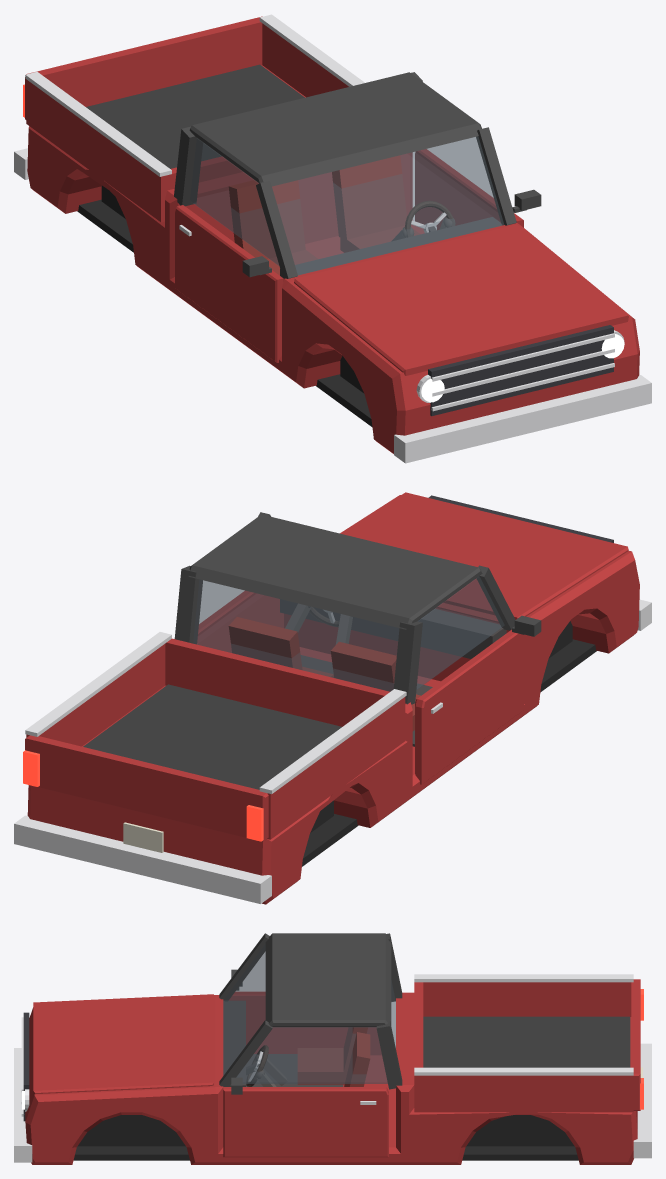
File: car_pickup.glb
The picture shows the model from 3 angles, top to bottom: view 1: azimuth 30°, elevation 25°; view 2: azimuth 150°, elevation 25°; view 3: azimuth 270°, elevation 25°; orthographic projection. The views are drawn at different scales.
Visible parts, largest first — view 1: Body, Hood, Cabin_Glass, Roof, Bed_Walls, Trunk, Bed_Liner, Door_R, Bumper_F, Grille, Seat_L, Pillars (+6 smaller); view 2: Body, Bed_Walls, Cabin_Glass, Roof, Hood, Bed_Liner, Trunk, Door_R, Bumper_R, Bed_Rails, Pillars, Dashboard (+7 smaller); view 3: Body, Hood, Bed_Walls, Roof, Door_L, Cabin_Glass, Bed_Liner, Bed_Rails, Underbody, Pillars, Door_R, WheelWell_R (+9 smaller).
Boxes of the visible parts, bbox=[...] form: Body: bbox=[27, 65, 639, 453]; Hood: bbox=[294, 224, 628, 375]; Cabin_Glass: bbox=[190, 136, 503, 275]; Roof: bbox=[189, 72, 481, 186]; Bed_Walls: bbox=[26, 23, 348, 222]; Trunk: bbox=[25, 16, 262, 119]; Bed_Liner: bbox=[86, 64, 304, 168]; Door_R: bbox=[175, 205, 283, 362]; Bumper_F: bbox=[394, 375, 651, 463]; Grille: bbox=[428, 325, 613, 416]; Seat_L: bbox=[332, 155, 419, 252]; Pillars: bbox=[174, 72, 516, 278]; Body: bbox=[27, 495, 639, 904]; Bed_Walls: bbox=[26, 638, 405, 839]; Cabin_Glass: bbox=[193, 576, 504, 691]; Roof: bbox=[188, 514, 482, 629]; Hood: bbox=[341, 492, 628, 619]; Bed_Liner: bbox=[83, 684, 341, 789]; Trunk: bbox=[25, 735, 268, 841]; Door_R: bbox=[415, 629, 523, 784]; Bumper_R: bbox=[14, 815, 271, 903]; Bed_Rails: bbox=[25, 632, 406, 794]; Pillars: bbox=[174, 512, 515, 704]; Dashboard: bbox=[280, 599, 506, 658]; Body: bbox=[25, 992, 637, 1164]; Hood: bbox=[33, 994, 213, 1095]; Bed_Walls: bbox=[414, 982, 633, 1112]; Roof: bbox=[265, 933, 391, 1027]; Door_L: bbox=[223, 1087, 388, 1157]; Cabin_Glass: bbox=[223, 944, 395, 1083]; Bed_Liner: bbox=[423, 1016, 630, 1067]; Bed_Rails: bbox=[414, 974, 633, 1075]; Underbody: bbox=[73, 1146, 578, 1160]; Pillars: bbox=[219, 933, 402, 1089]; Door_R: bbox=[229, 992, 381, 1054]; WheelWell_R: bbox=[466, 1115, 574, 1146].
Bounding box in the file's own units: 2.4 × 1.38 × 5.58.
